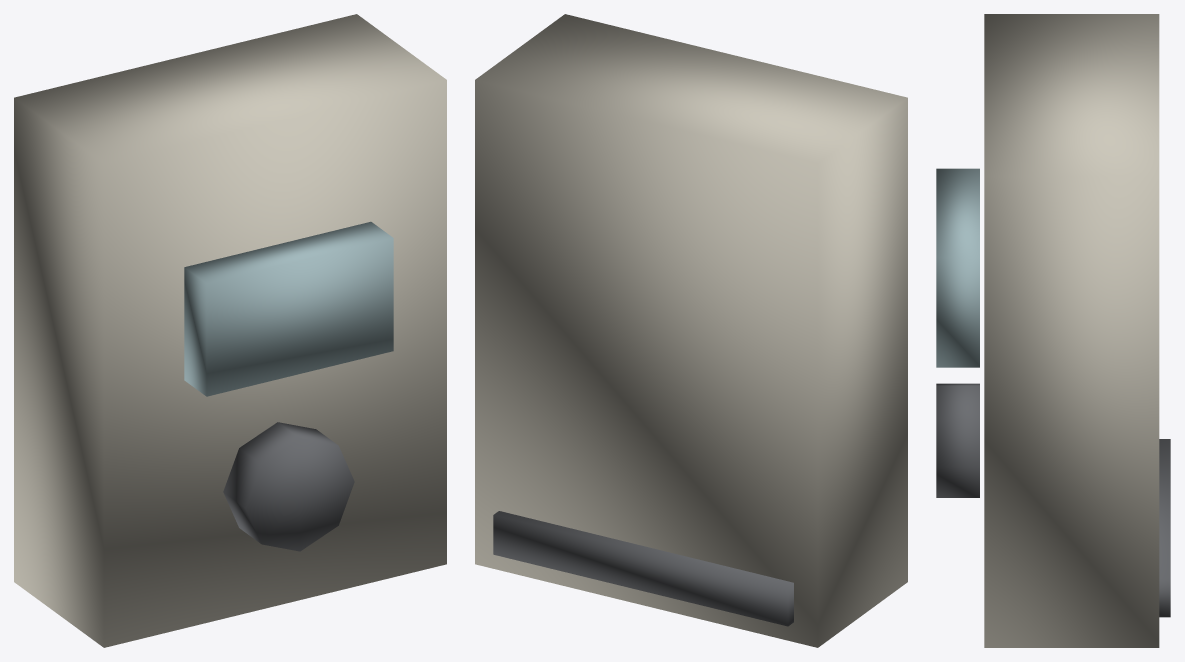
Rendered from wall_thermostat__reinforced.glb.
The picture shows the model from 3 angles, left to right: view 1: azimuth 30°, elevation 25°; view 2: azimuth 150°, elevation 25°; view 3: azimuth 270°, elevation 25°; orthographic projection. The views are drawn at different scales.
Parts seen in each view (by area): view 1: world; view 2: world; view 3: world.
Part boxes in pixels (x1,y1,x2,y2): world: (14,14,446,647); world: (475,14,907,647); world: (936,14,1170,647).
Size of the model in its own units: 0.2266 by 0.306 by 0.1379.
